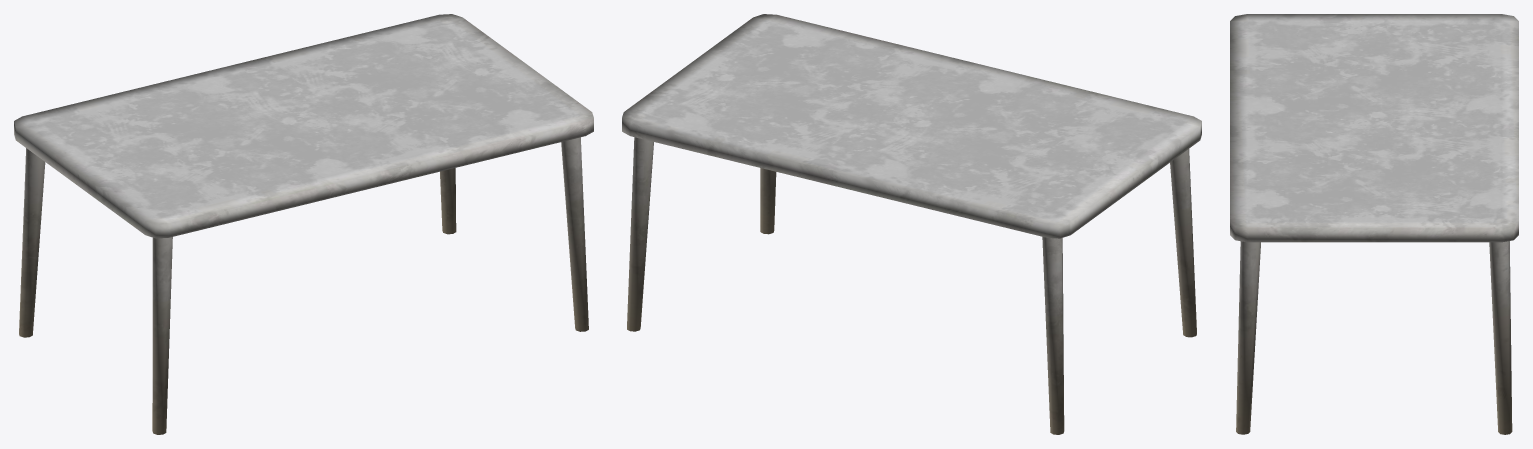
The model's file is plastic-table.glb.
The picture shows the model from 3 angles, left to right: view 1: azimuth 30°, elevation 25°; view 2: azimuth 150°, elevation 25°; view 3: azimuth 270°, elevation 25°; orthographic projection.
Parts seen in each view (by area): view 1: Cube.010_Meja Plastik 2 _0; view 2: Cube.010_Meja Plastik 2 _0; view 3: Cube.010_Meja Plastik 2 _0.
Boxes of the visible parts, left/top/right/bottom form: Cube.010_Meja Plastik 2 _0: left=14, top=14, right=593, bottom=434; Cube.010_Meja Plastik 2 _0: left=622, top=14, right=1201, bottom=434; Cube.010_Meja Plastik 2 _0: left=1230, top=14, right=1518, bottom=434.
Bounding box in the file's own units: 2 × 0.908 × 1.14.
1 material, 1 textured.
